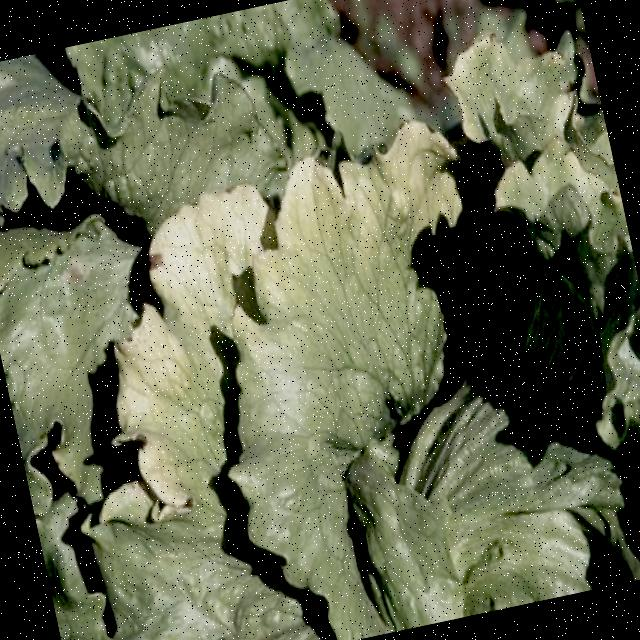Viral: (70, 117, 541, 640)
